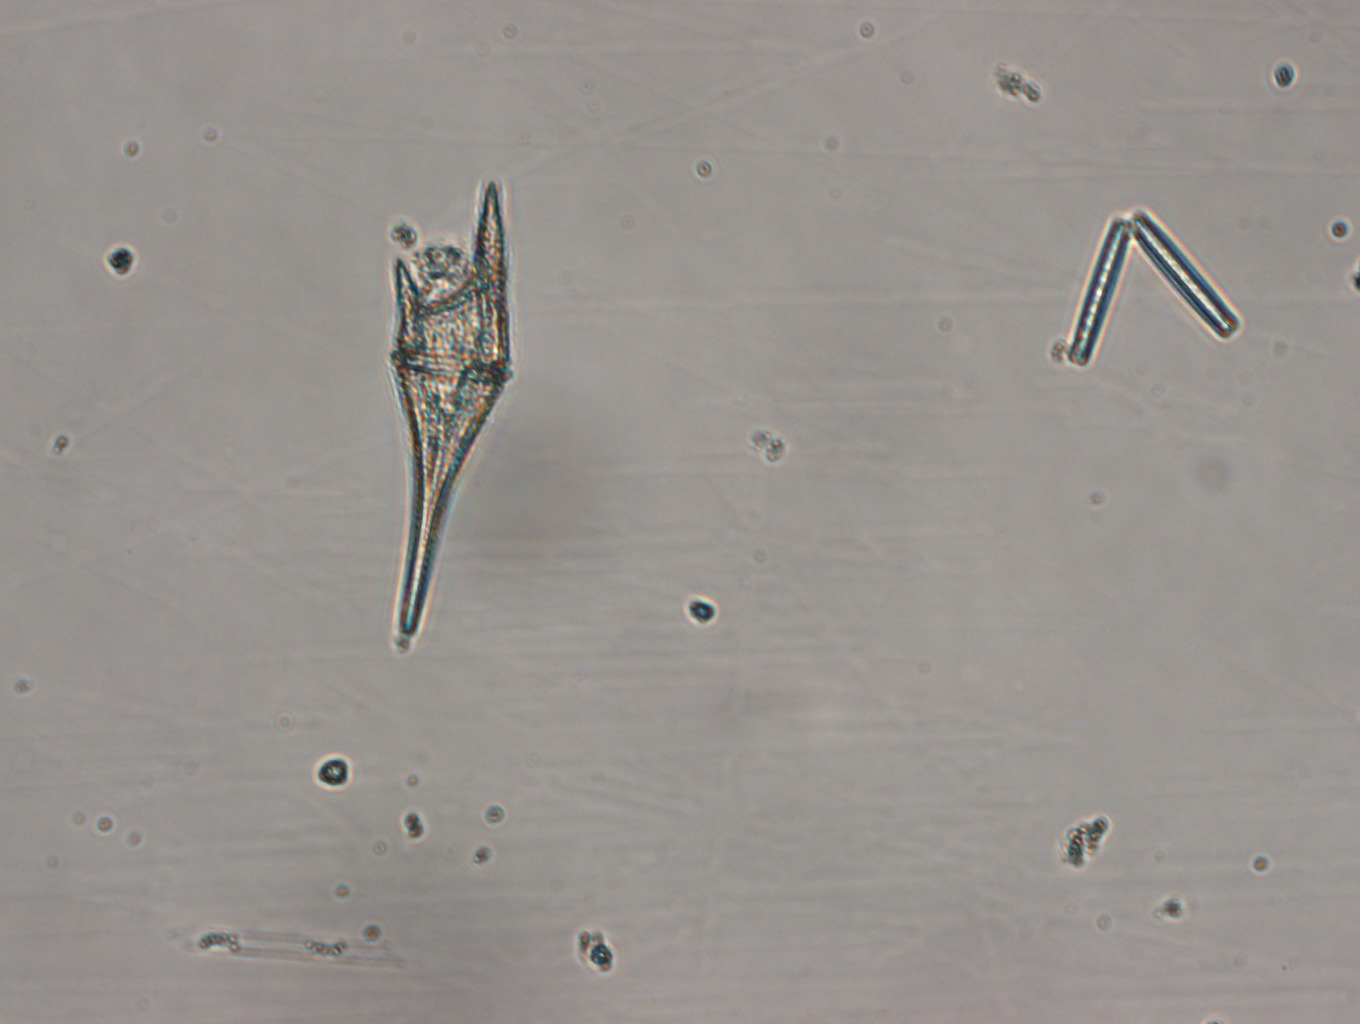ceratium furca: (370, 159, 522, 648)
thalassionema nitzschioides: (1058, 200, 1254, 372)
